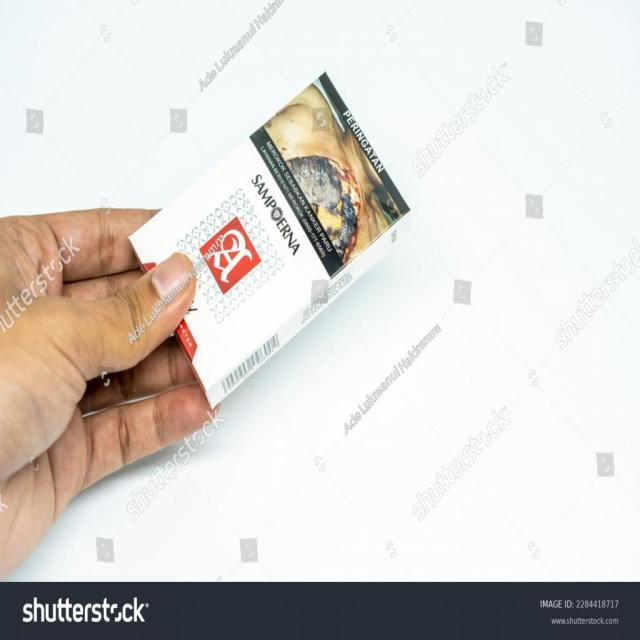smoking: (93, 71, 444, 408)
